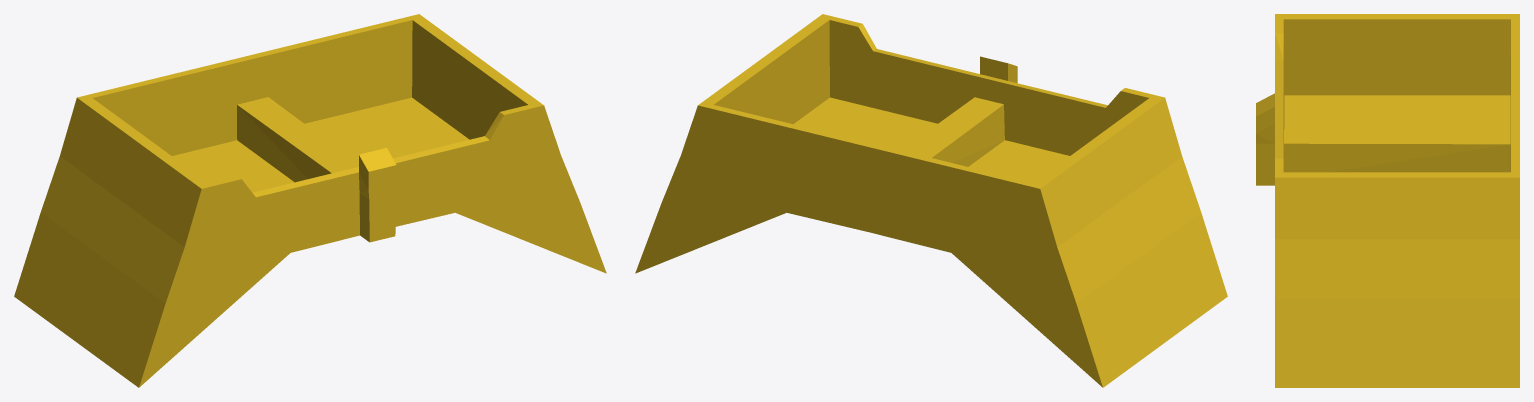
File: sqwoosh_junior.dae
3 renders of one model, left to right at view 1: azimuth 30°, elevation 25°; view 2: azimuth 150°, elevation 25°; view 3: azimuth 270°, elevation 25°, orthographic. The views are drawn at different scales.
Visible parts, largest first — view 1: Cube.007; view 2: Cube.007; view 3: Cube.007.
Boxes of the visible parts, box(x1,y1,x2,y2) form: Cube.007: box(14, 14, 606, 387); Cube.007: box(635, 14, 1227, 387); Cube.007: box(1256, 14, 1519, 387).
Size of the model in its own units: 3.28 by 1.63 by 1.23.
